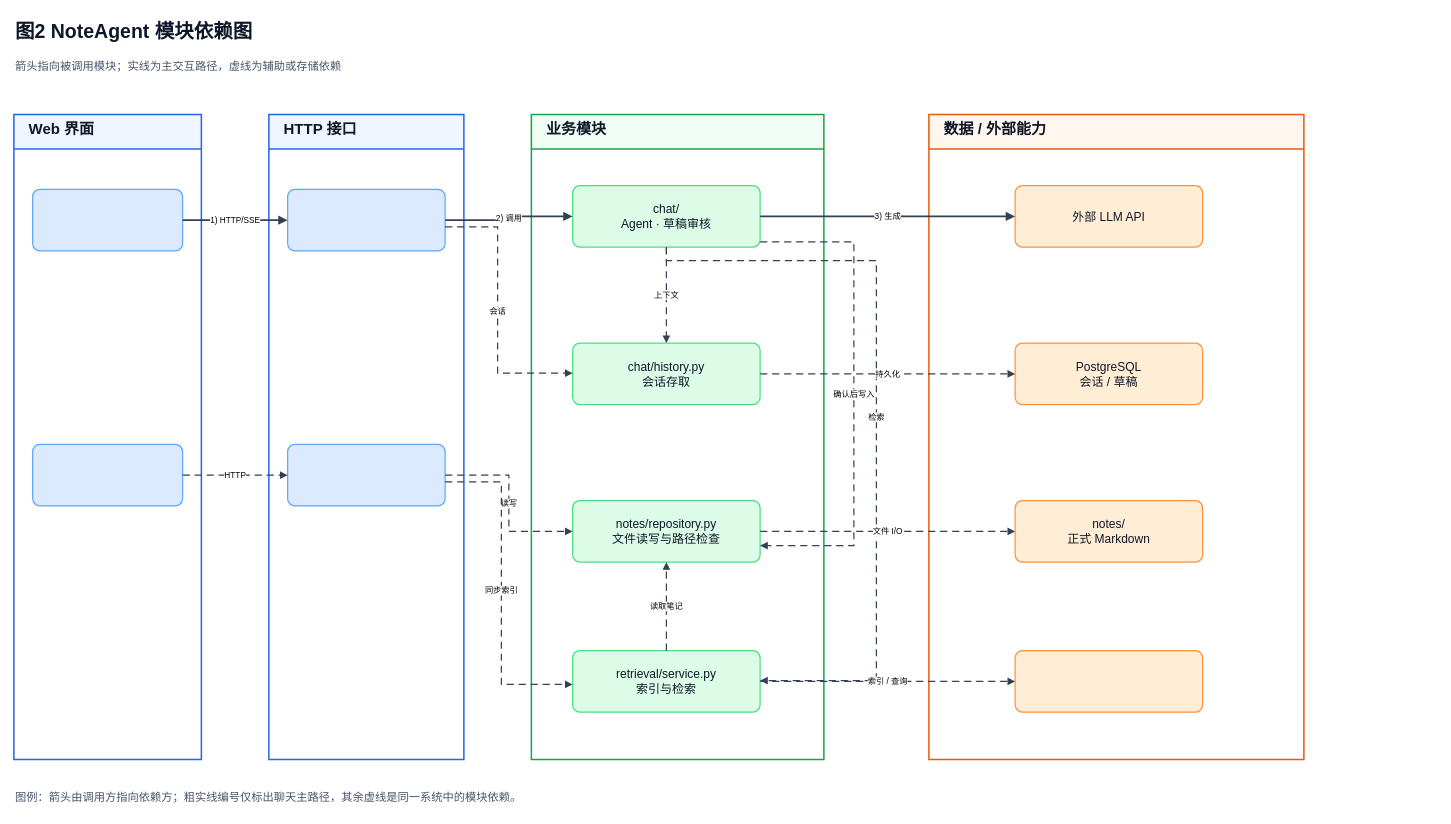
Some shapes in this 1451 by 824 pixel diagram are drawn without their labels. Here are the shapes that lost their labels. From the top down, the centre of each, then its label:
At point (107, 219): "Chat 页面".
At point (366, 219): "chat/router.py 聊天 / 审核 / 会话".
At point (107, 474): "Documents 页面".
At point (366, 474): "notes/router.py 笔记 / 分类 / 索引".
At point (1108, 681): "Chroma 向量索引".
